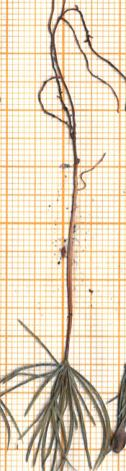flower: (2, 312, 112, 471)
root: (32, 5, 124, 152)
stem: (56, 157, 84, 358)
